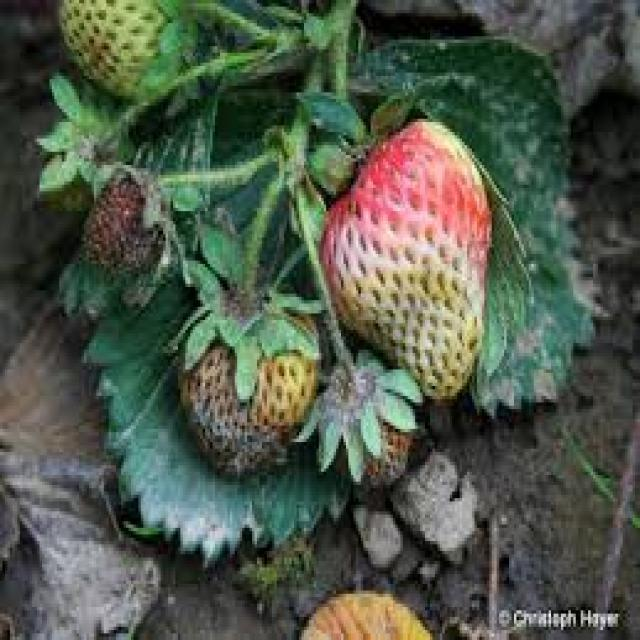Podredumbre de cuero: (326, 130, 492, 398), (185, 288, 314, 472), (322, 354, 422, 494), (68, 163, 170, 283)
